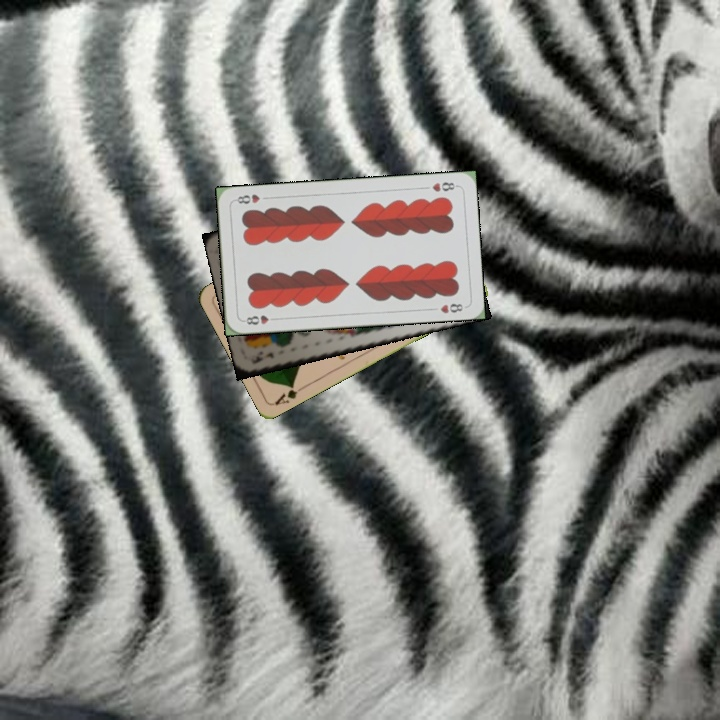EK: (247, 348, 276, 367)
GA: (271, 380, 308, 408)
H8: (239, 311, 280, 327), (428, 178, 460, 194)
